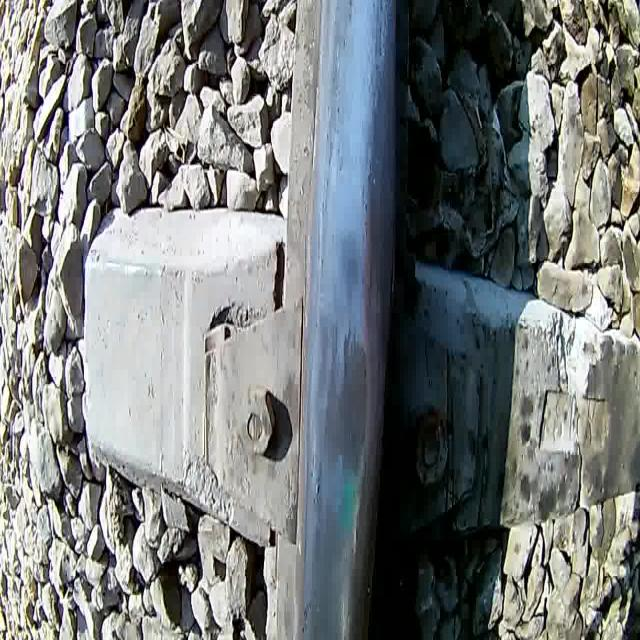Cracks: (311, 454, 323, 516)
Squats: (320, 320, 374, 482), (331, 217, 367, 309)
